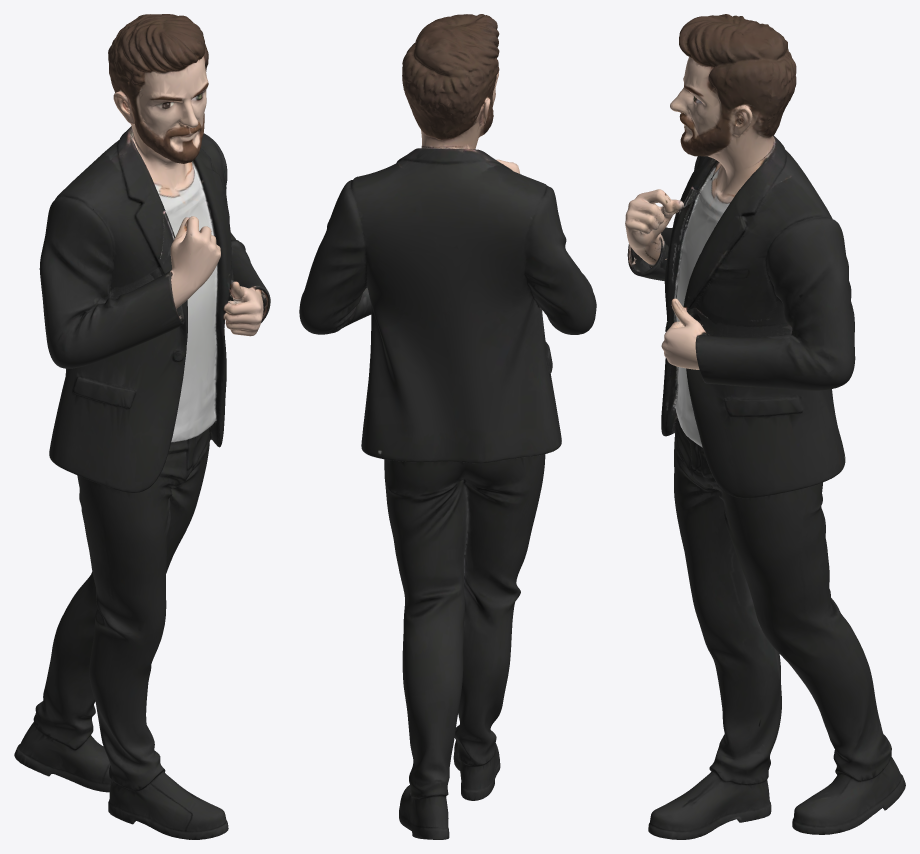
Rendered from speaker.glb.
3 views of the same model, side by side, from view 1: azimuth 30°, elevation 25°; view 2: azimuth 150°, elevation 25°; view 3: azimuth 270°, elevation 25° (orthographic). The views are drawn at different scales.
Bounding box in the file's own units: 0.6092 × 1.9 × 0.5986.
1 material, 1 textured.
